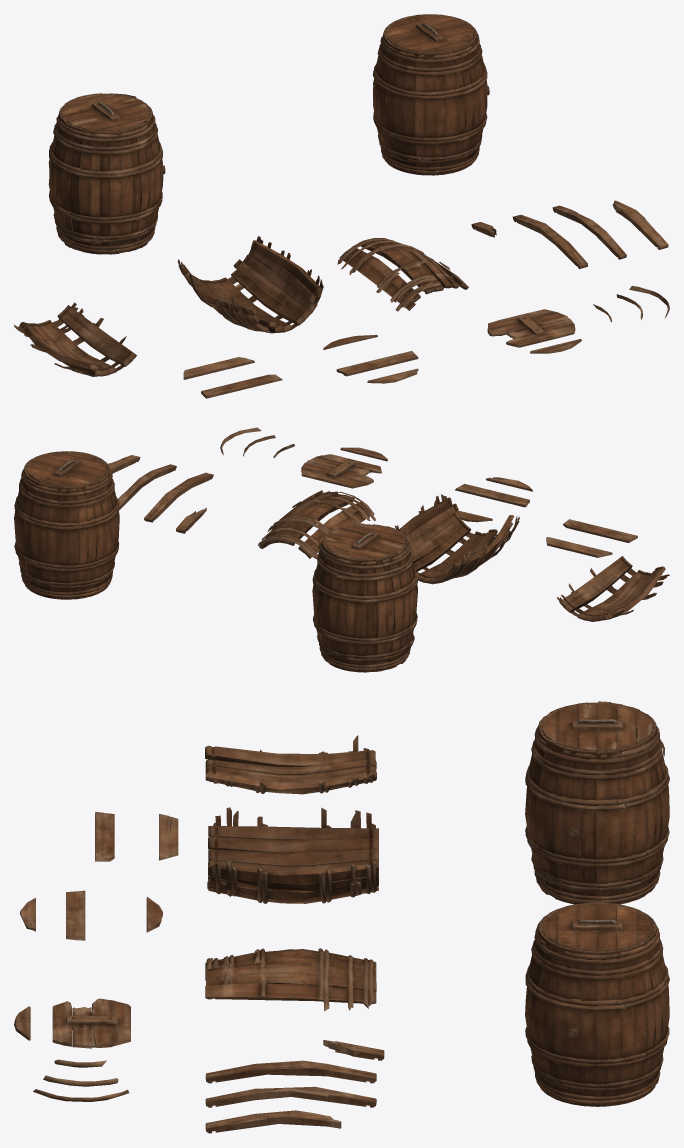
File: ph2_wooden_barrels_01.glb
3 renders of one model, top to bottom at view 1: azimuth 30°, elevation 25°; view 2: azimuth 150°, elevation 25°; view 3: azimuth 270°, elevation 25°, orthographic. The views are drawn at different scales.
Size of the model in its own units: 4.44 by 0.9568 by 3.34.
3 materials, 3 textured.
